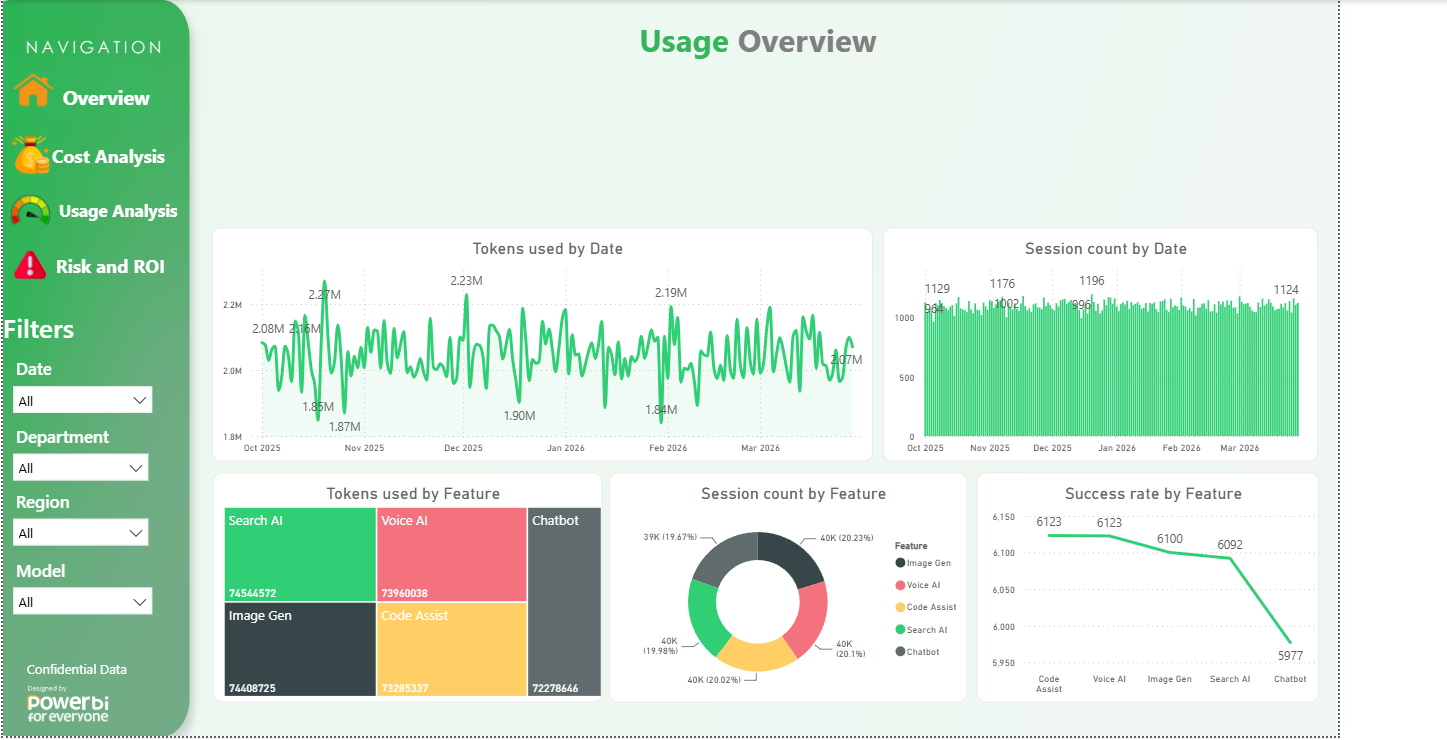

The dashboard page shown, as its layout file describes it:
{"tool":"powerbi","page":{"name":"Usage Analysis","canvas":[1360,750],"ordinal":2},"visuals":[{"type":"image","box":[0,0,202,750],"z":2000},{"type":"lineChart","title":"Tokens used by Date","fields":{"Category":["Usage_Data.Date"],"Y":["Sum(Usage_Data.Tokens_Used)"]},"box":[212.5,231.2,673.8,238.8],"z":4000},{"type":"textbox","box":[18.9,667.4,116.8,36.3],"z":19000},{"type":"image","box":[9.5,692.6,115.2,47.3],"z":20000},{"type":"treemap","title":"Tokens used by Feature","fields":{"Group":["Usage_Data.Feature"],"Values":["Sum(Usage_Data.Tokens_Used)"]},"box":[213.8,481.7,396.7,234.4],"z":21000},{"type":"textbox","box":[643.7,14.2,265.1,58.4],"z":23000},{"type":"image","box":[16.1,35.7,150.9,30],"z":24000},{"type":"columnChart","title":"Session count by Date","fields":{"Category":["Usage_Data.Date"],"Y":["Sum(Usage_Data.Session_Count)"]},"box":[896.7,231.2,443.4,238.6],"z":46000},{"type":"donutChart","title":"Session count by Feature","fields":{"Category":["Usage_Data.Feature"],"Y":["Sum(Usage_Data.Session_Count)"]},"box":[618.2,481.7,364.5,234.4],"z":47000},{"type":"lineChart","title":"Success rate by Feature","fields":{"Category":["Usage_Data.Feature"],"Y":["Sum(Usage_Data.Success_Rate)"]},"box":[991.7,481.7,349,234.4],"z":48000},{"type":"actionButton","box":[0,58.6,157.9,61.1],"z":48001},{"type":"actionButton","box":[0,129.9,173.2,56],"z":48002},{"type":"actionButton","box":[0,186,186,56],"z":48003},{"type":"actionButton","box":[0,242,173.2,56],"z":48004},{"type":"slicer","fields":{"Values":["AI_Investment.Date"]},"box":[0,359.2,161.8,68.8],"z":48005},{"type":"slicer","fields":{"Values":["AI_Investment.Department"]},"box":[0,428,157.9,66.2],"z":48006},{"type":"slicer","fields":{"Values":["AI_Revenue.Region"]},"box":[0,494.2,157.9,66.2],"z":48007},{"type":"slicer","fields":{"Values":["AI_Investment.Model_Name"]},"box":[0,564.3,161.8,68.8],"z":48008},{"type":"shape","box":[0,307,169.4,52.2],"z":48009}]}

Visuals, with their boxes on the page's 1360x750 design canvas (x1, y1, x2, y2). These are canvas units, not pixel positions in the 1447x740 screenshot, which may show the page scaled, cropped or inside an application window:
image: (0,0,202,750)
"Tokens used by Date" lineChart: (212,231,886,470)
textbox: (19,667,136,704)
image: (10,693,125,740)
"Tokens used by Feature" treemap: (214,482,610,716)
textbox: (644,14,909,73)
image: (16,36,167,66)
"Session count by Date" columnChart: (897,231,1340,470)
"Session count by Feature" donutChart: (618,482,983,716)
"Success rate by Feature" lineChart: (992,482,1341,716)
actionButton: (0,59,158,120)
actionButton: (0,130,173,186)
actionButton: (0,186,186,242)
actionButton: (0,242,173,298)
slicer - AI_Investment.Date: (0,359,162,428)
slicer - AI_Investment.Department: (0,428,158,494)
slicer - AI_Revenue.Region: (0,494,158,560)
slicer - AI_Investment.Model_Name: (0,564,162,633)
shape: (0,307,169,359)
